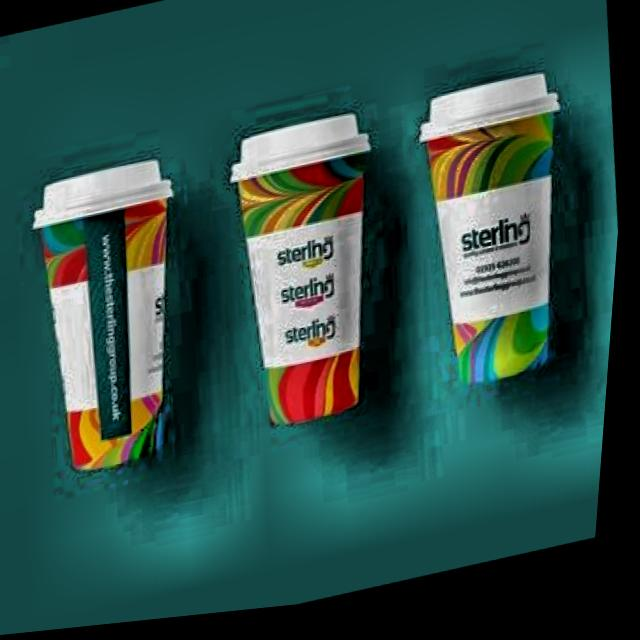Cup: (201, 120, 413, 455), (12, 171, 228, 491), (403, 88, 602, 419)
